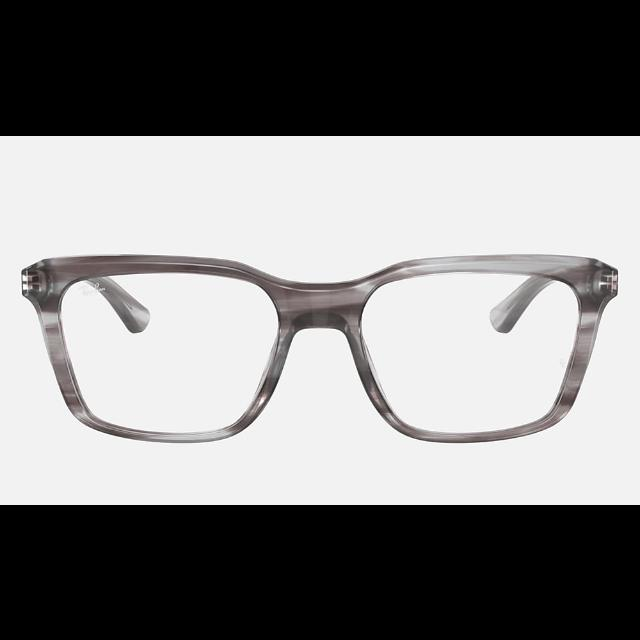glasses: (21, 251, 619, 441)
